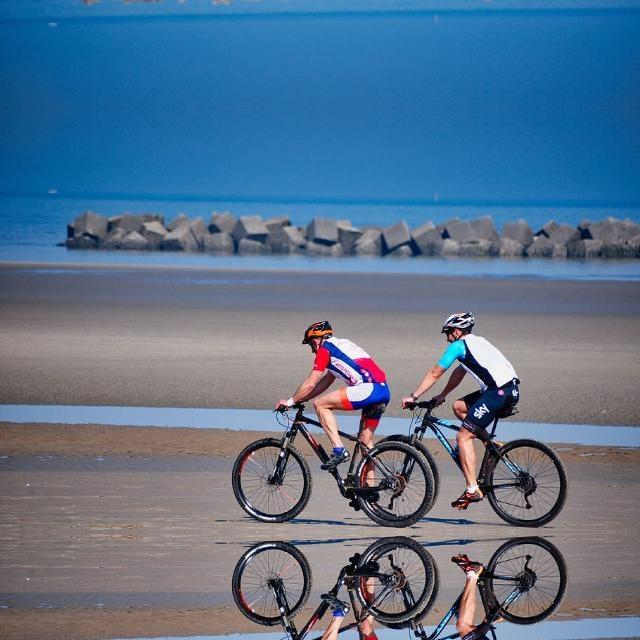obstacle: (220, 386, 432, 528), (392, 384, 586, 524), (219, 536, 432, 640), (392, 539, 585, 640)
